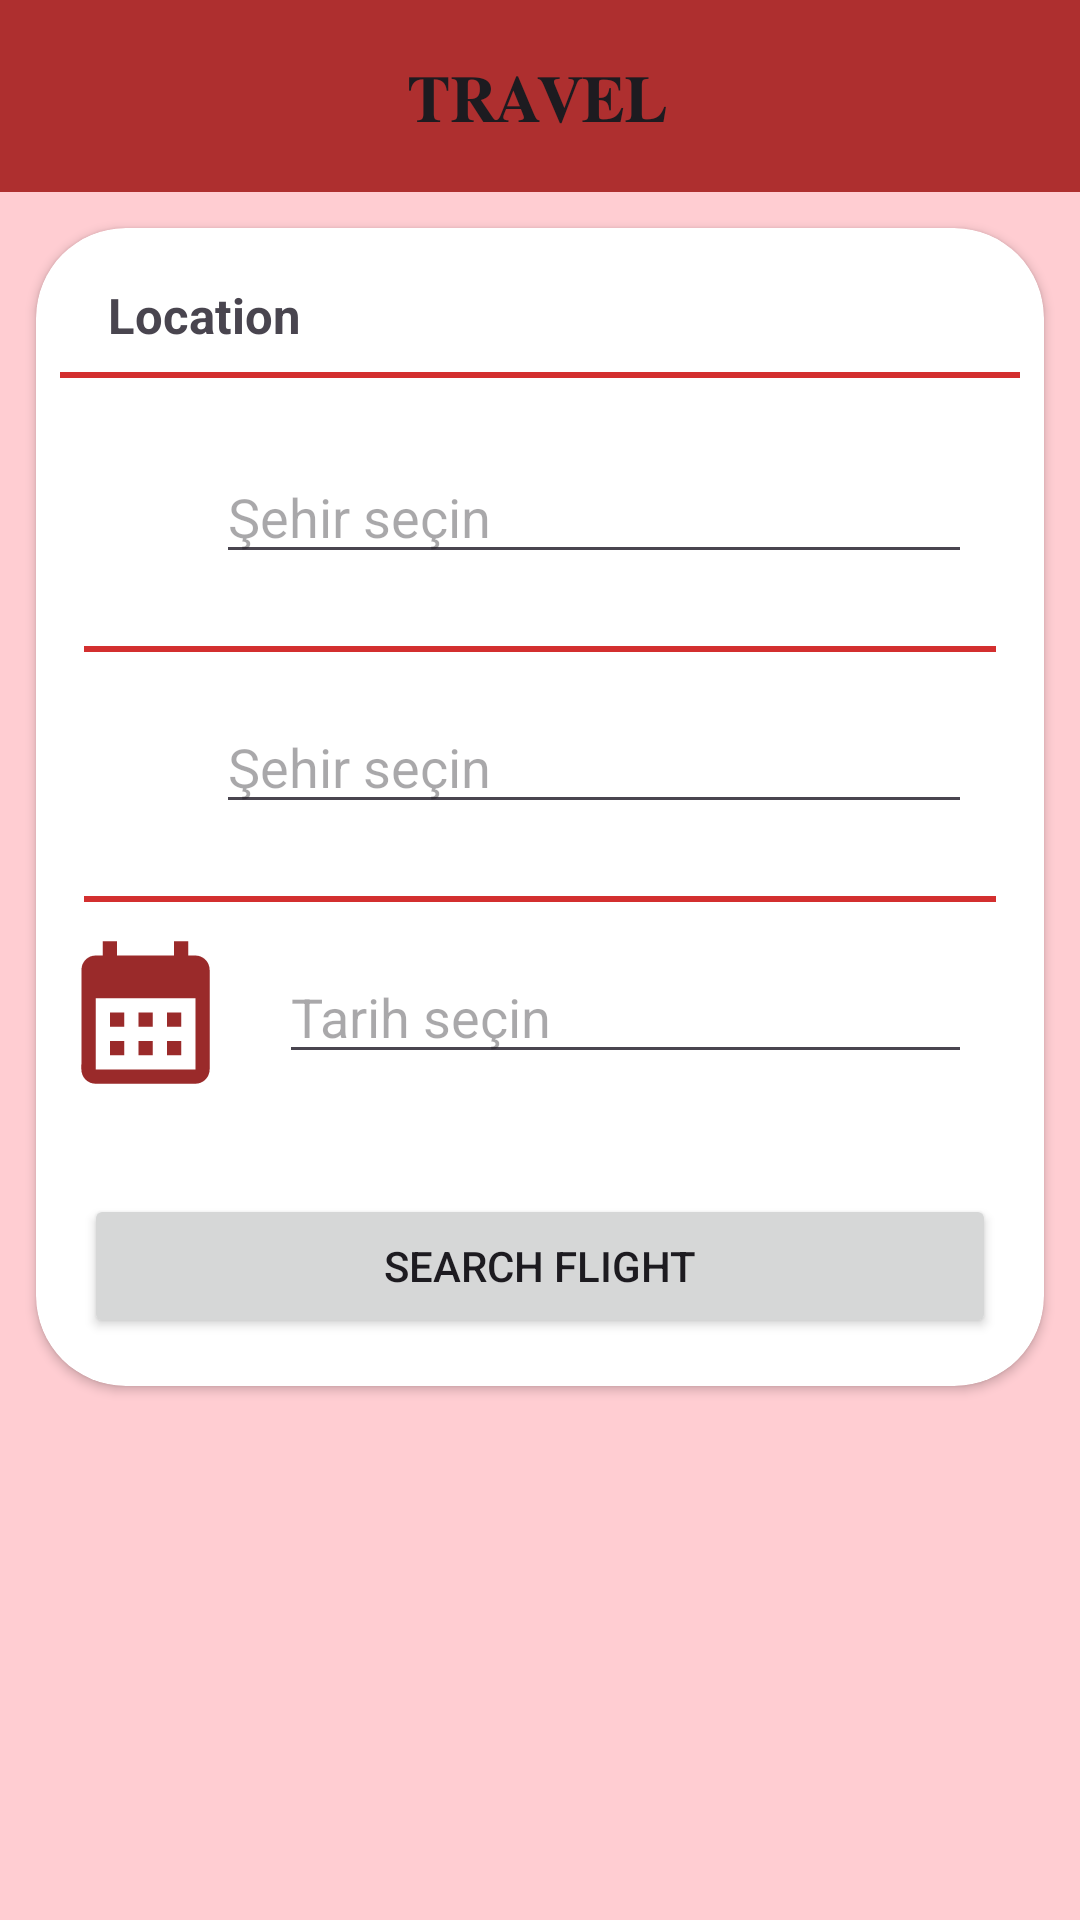

Icon bounding boxes for this 1080px×1920px phone screenshot, format rect(x1, y1, x2, y2):
calendar month: rect(81, 941, 210, 1084)
